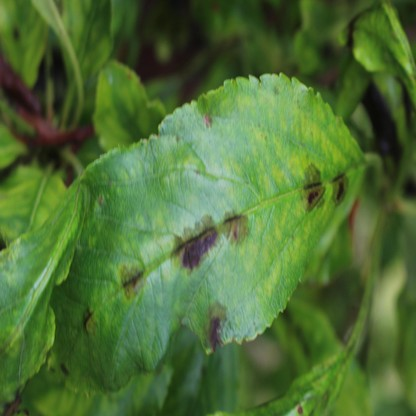rust: (330, 173, 348, 206), (273, 87, 279, 95)
